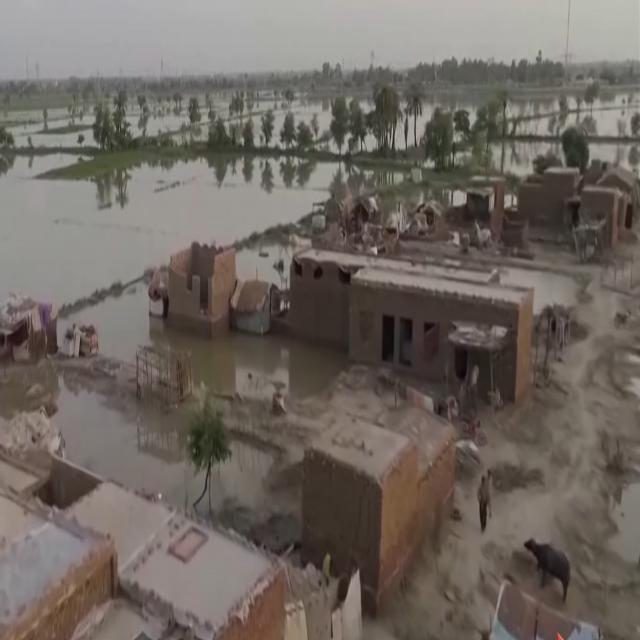flood: (0, 151, 412, 308), (58, 282, 347, 400), (0, 364, 200, 506), (212, 92, 330, 146), (213, 441, 299, 512), (510, 92, 640, 134), (0, 107, 95, 150), (409, 100, 481, 144), (147, 95, 210, 140), (237, 241, 295, 288), (130, 99, 140, 136)
house: (297, 368, 446, 604), (339, 262, 526, 414), (0, 430, 120, 640), (296, 430, 388, 601), (161, 236, 242, 340), (495, 577, 604, 640), (230, 240, 290, 336), (554, 168, 632, 235), (0, 286, 50, 366)
